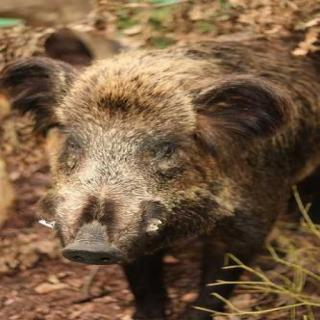Pig: (9, 2, 317, 298)
